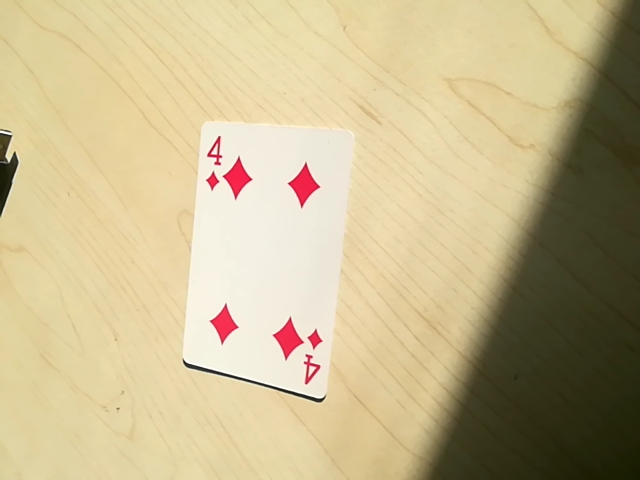fk 4: (199, 131, 235, 197), (292, 326, 327, 390)
